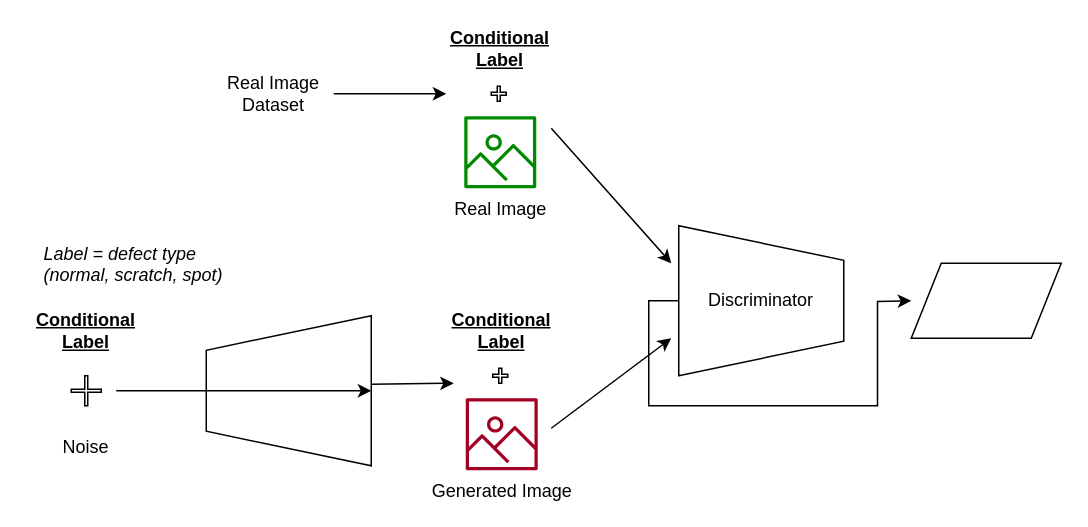
Image size: 1088x527. Some labels were removed from this diagram. Here are the shapes that lost their labels. From the top down, the centre of each, then its label:
At (x=985, y=300): "Real / Fake Score".
At (x=288, y=390): "Generator".
